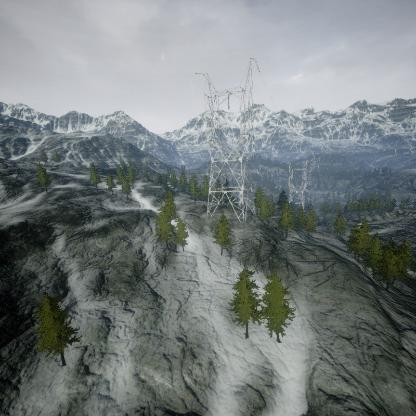tower: (190, 52, 265, 228)
